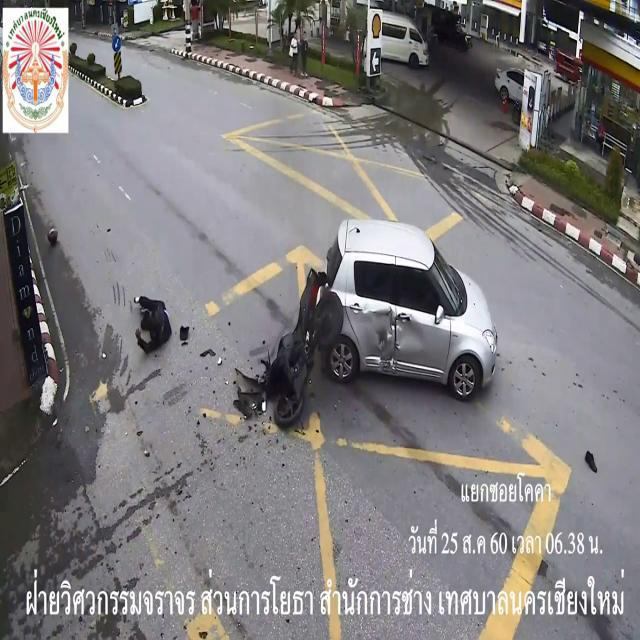single accident: (259, 151, 521, 460)
